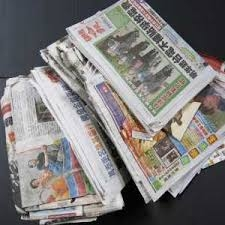paper: (30, 40, 225, 199), (63, 1, 225, 134), (4, 62, 127, 224)
